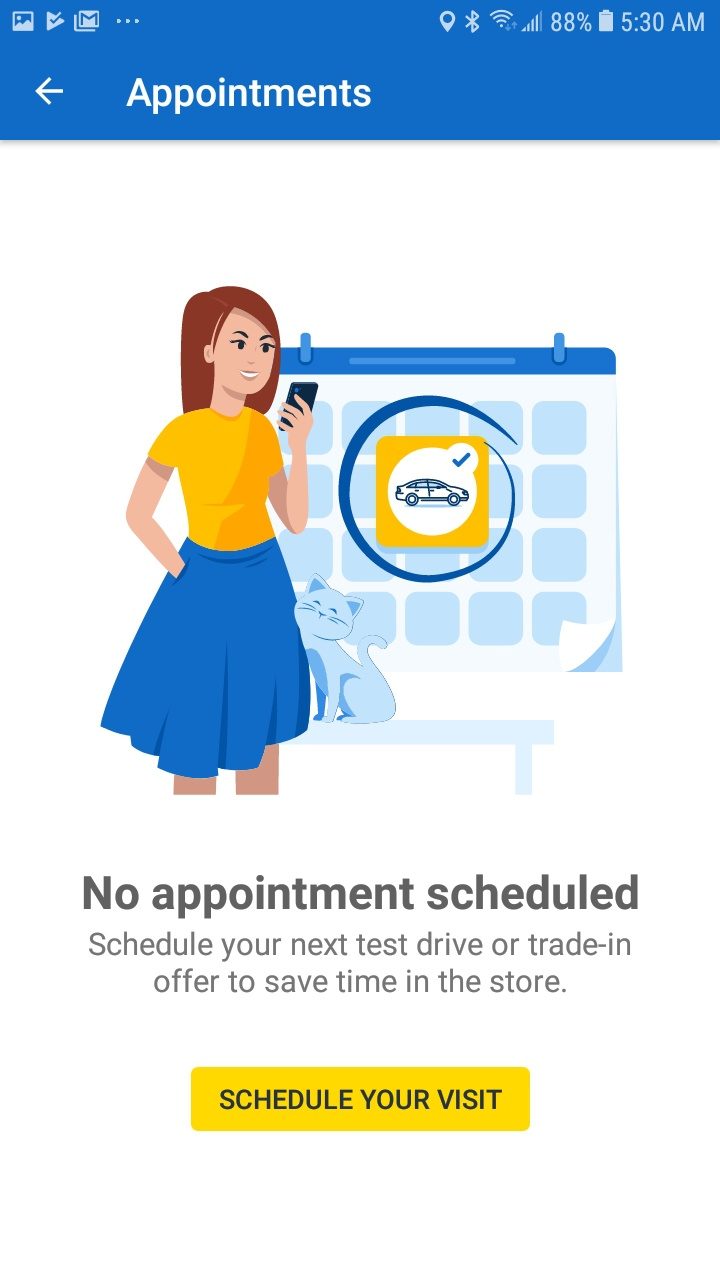Icon: (36, 78, 65, 107)
Image: (100, 285, 624, 796)
Text: (89, 930, 631, 993), (85, 873, 639, 919), (126, 78, 372, 116)
TextButton: (191, 1067, 531, 1132)
UpperTaskBar: (1, 1, 720, 35)
